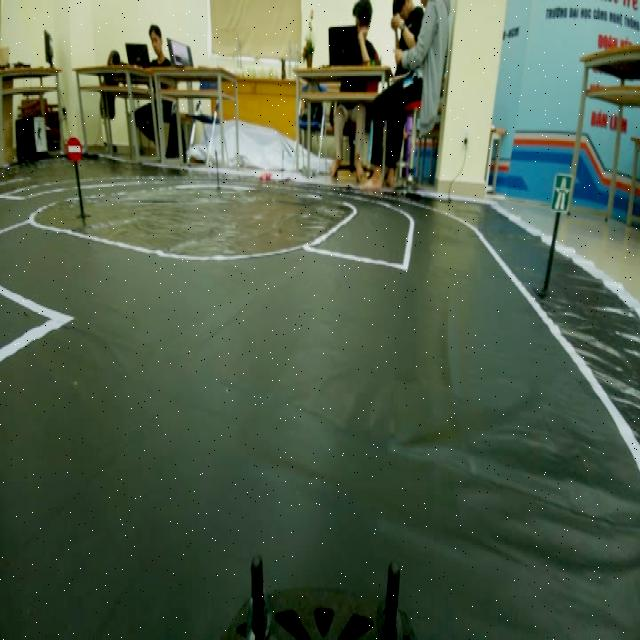highway_entry: (550, 165, 574, 223)
no_entry: (65, 134, 84, 162)
